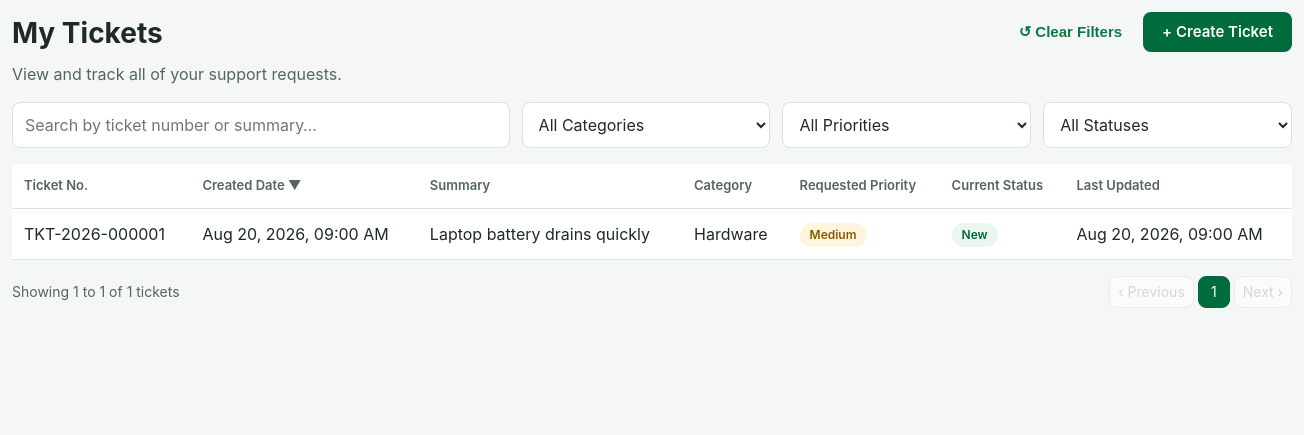
Test: MyTickets › shows the no-results state once a search matches nothing, for a requester with tickets
The width and height of the screenshot is (1304, 435).
Type "nomatch" into the search field labelled "Search by ticket number or summary…" at (261,125), box [12, 102, 510, 148]
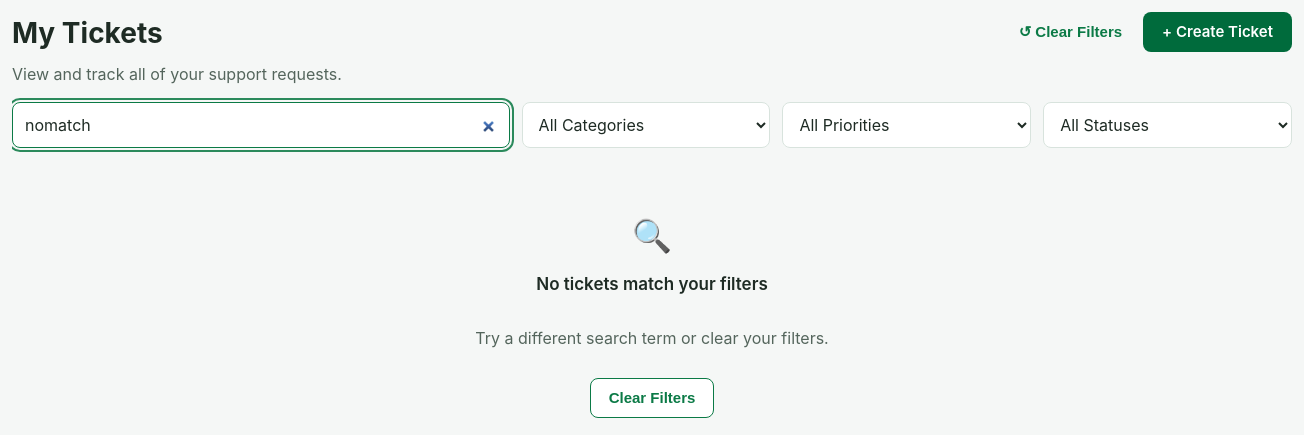
Expected: the text "No tickets match your filters" is shown, [536, 272, 768, 298]
